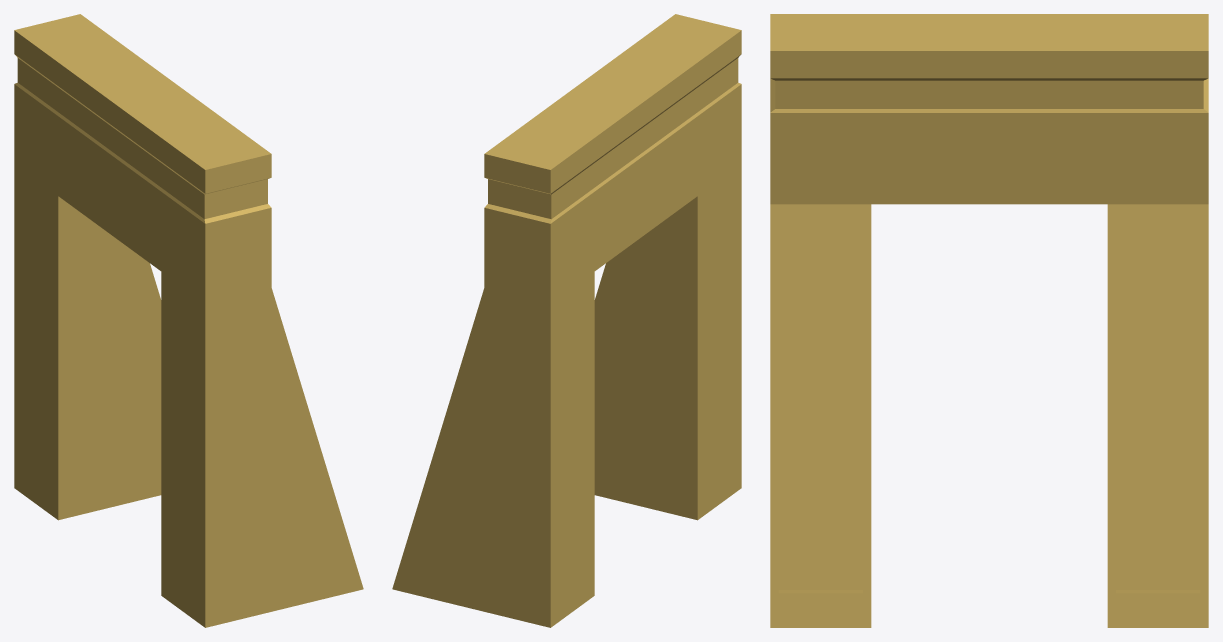
File: Entrance.fbx
The picture shows the model from 3 angles, left to right: view 1: azimuth 30°, elevation 25°; view 2: azimuth 150°, elevation 25°; view 3: azimuth 270°, elevation 25°; orthographic projection. The views are drawn at different scales.
Visible parts, largest first — view 1: WallEntrance; view 2: WallEntrance; view 3: WallEntrance.
Part boxes in pixels (left/top/right/bottom): WallEntrance: left=14, top=14, right=363, bottom=627; WallEntrance: left=392, top=14, right=741, bottom=627; WallEntrance: left=770, top=14, right=1208, bottom=627.
Bounding box in the file's own units: 195 × 539 × 408.
